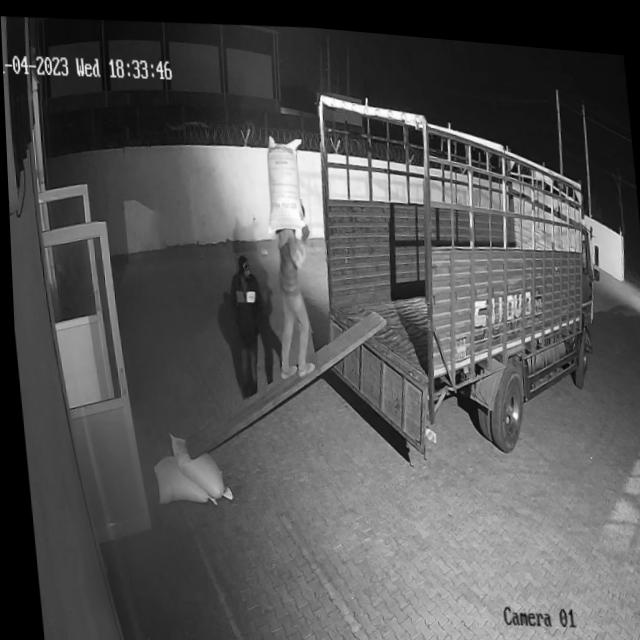sack: (258, 128, 308, 232), (162, 425, 230, 501), (148, 449, 213, 507)
